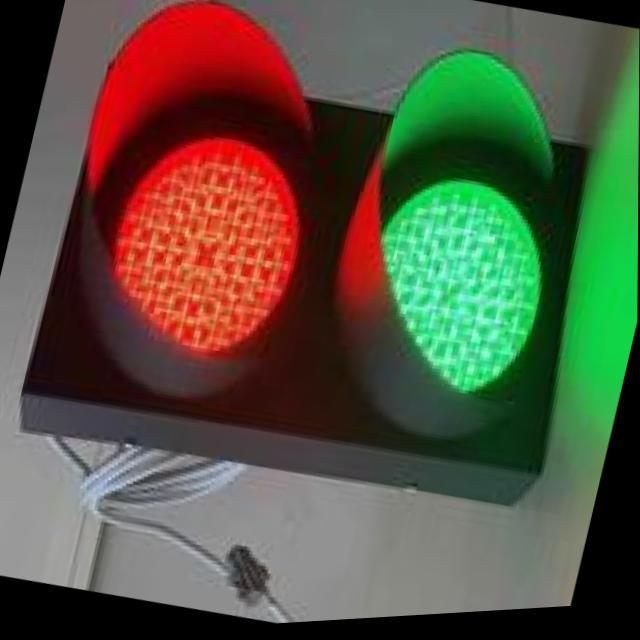green_light: (300, 24, 640, 489)
red_light: (23, 0, 391, 477)
